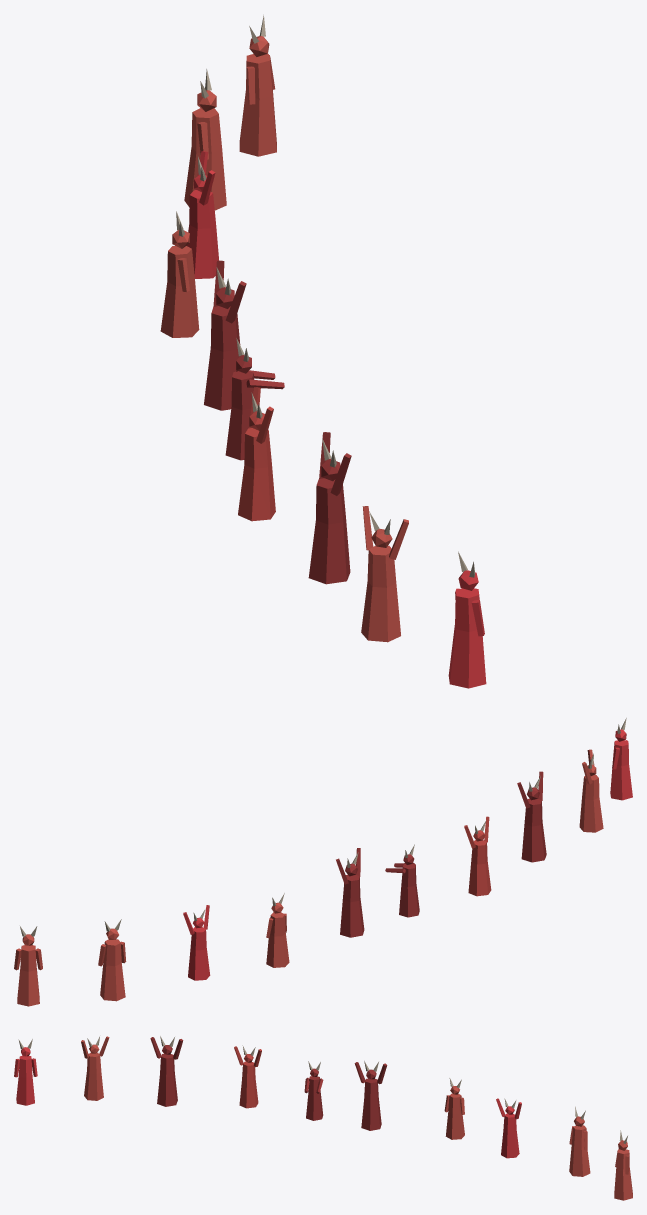
File: Stands_6_0_0.obj
3 views of the same model, one above another, from view 1: azimuth 30°, elevation 25°; view 2: azimuth 150°, elevation 25°; view 3: azimuth 270°, elevation 25° (orthographic). The views are drawn at different scales.
Visible parts, largest first — view 1: Stands_6_0_0; view 2: Stands_6_0_0; view 3: Stands_6_0_0.
Boxes of the visible parts, <box> form: Stands_6_0_0: <box>160,15,486,688</box>; Stands_6_0_0: <box>14,718,632,1006</box>; Stands_6_0_0: <box>14,1036,632,1200</box>.
Size of the model in its own units: 13.67 by 3.9 by 33.08.
Materials: 1 (1 with a texture image).
